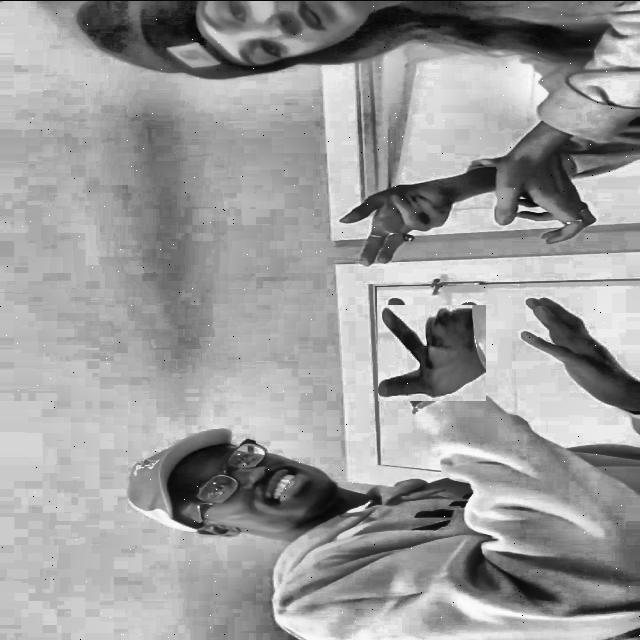not-gloved: (380, 300, 482, 402)
